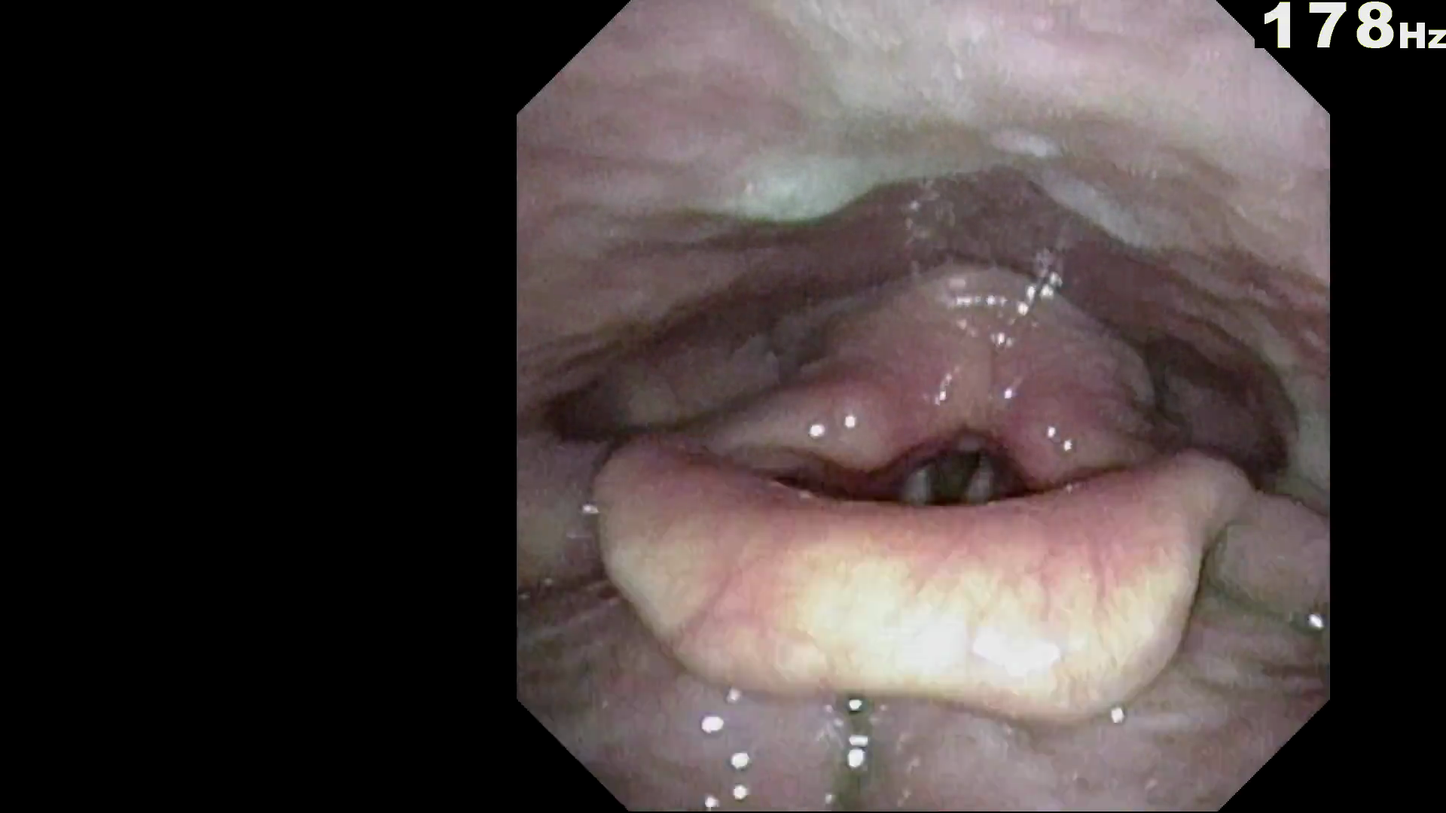epiglottis: (644, 487, 1188, 677)
trachea: (884, 441, 1038, 523)
